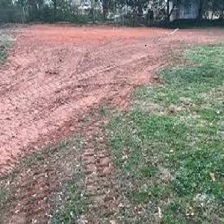clay_soil: (6, 18, 184, 174)
